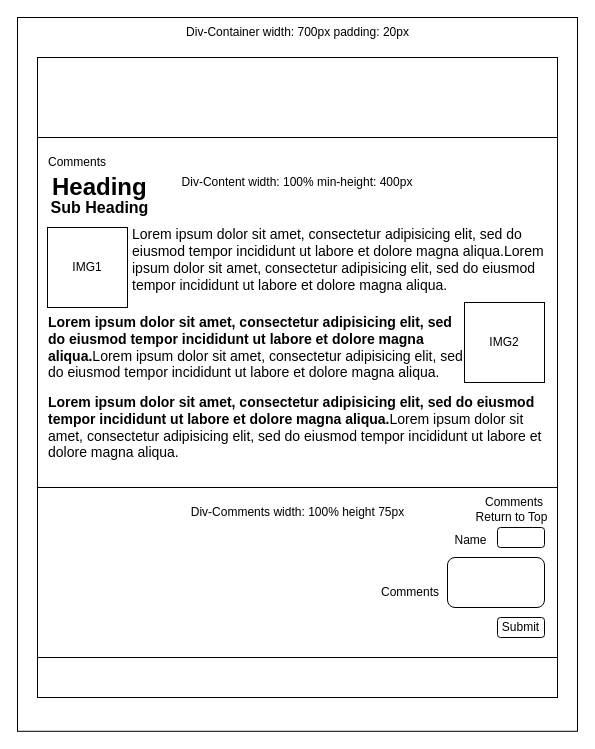
The diagram is 595 pixels wide and 749 high, and some of its shapes have lost their labels. Here are the shapes that lost their labels. From the top down, the box of each, then its label:
(36, 56, 558, 138): Div-Header width: 100% height: 170px
(36, 656, 558, 698): Div-Footer width: 100% height: 75px
